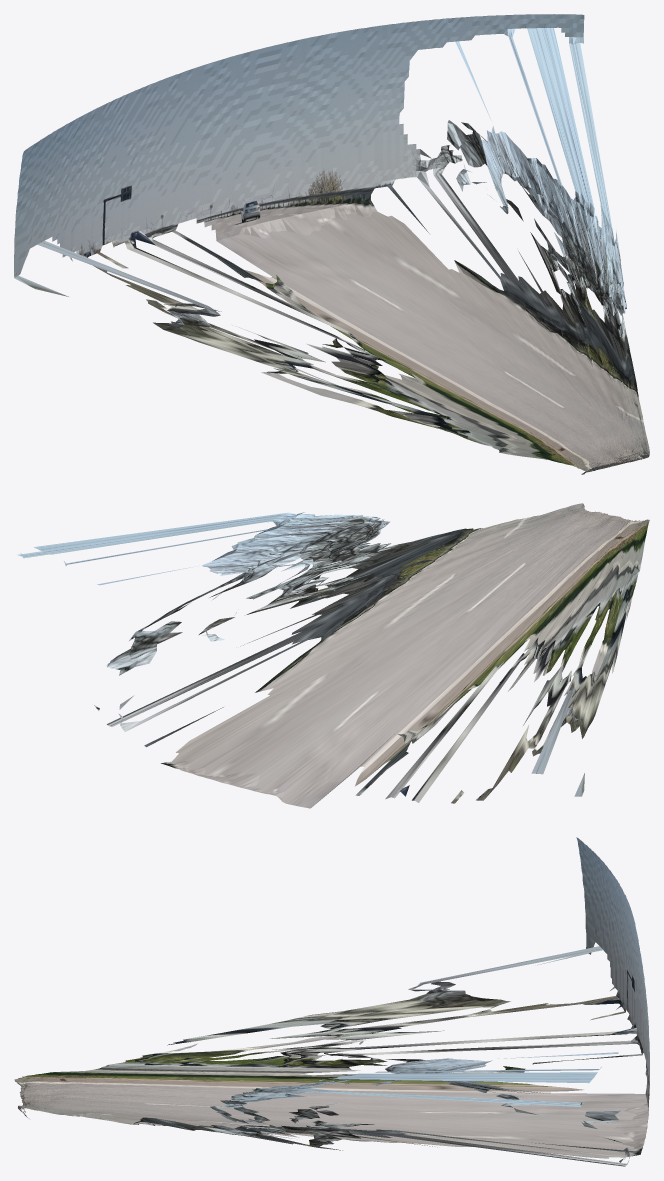
The picture shows the model from 3 angles, top to bottom: view 1: azimuth 30°, elevation 25°; view 2: azimuth 150°, elevation 25°; view 3: azimuth 270°, elevation 25°; orthographic projection. The views are drawn at different scales.
Visible parts, largest first — view 1: defaultobject; view 2: defaultobject; view 3: defaultobject.
Boxes of the visible parts, bbox=[...] form: defaultobject: bbox=[14, 14, 649, 474]; defaultobject: bbox=[17, 503, 649, 808]; defaultobject: bbox=[14, 837, 649, 1166].
Bounding box in the file's own units: 40.95 × 12.9 × 44.55.
1 material, 1 textured.
